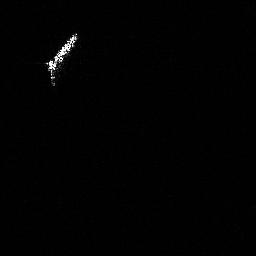ship: (42, 28, 81, 90)
